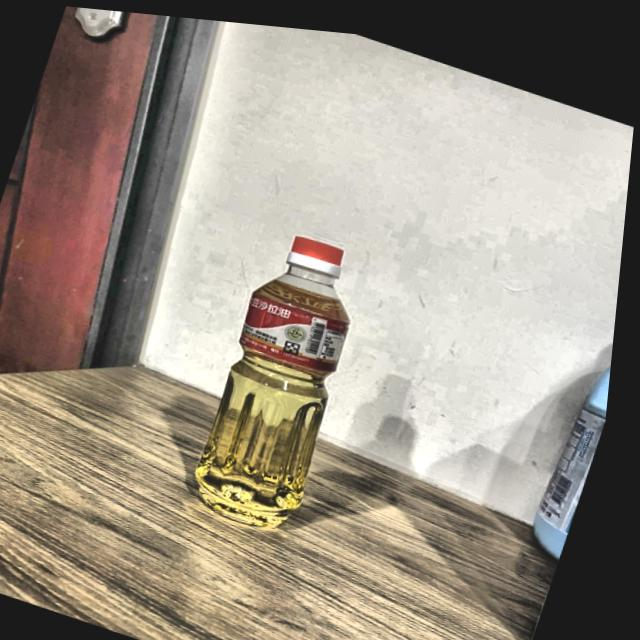Bottles: (172, 205, 411, 567)
